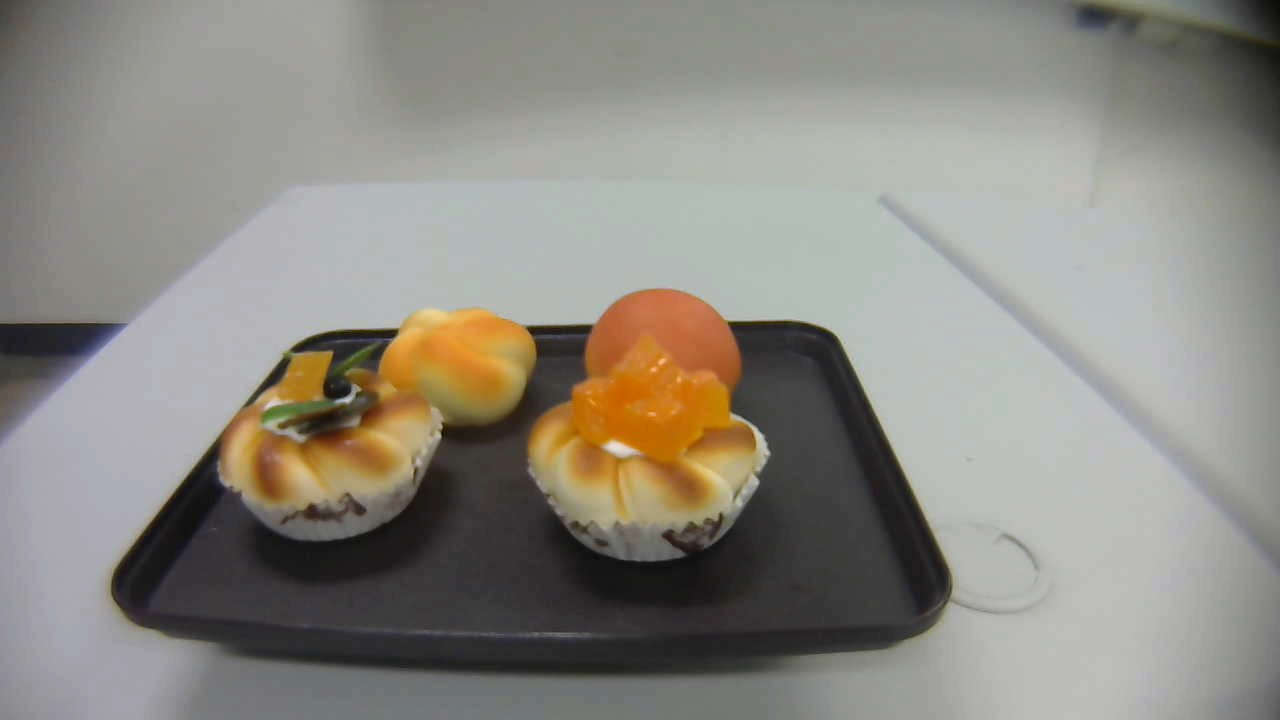bun: (584, 288, 742, 436)
fruit tart: (215, 345, 442, 542)
mango tart: (525, 335, 771, 564)
twist bread: (379, 307, 537, 430)
